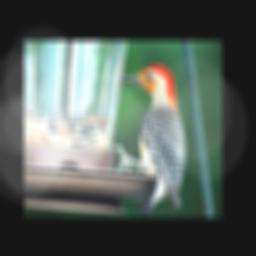Woodpecker: (114, 64, 189, 216)
